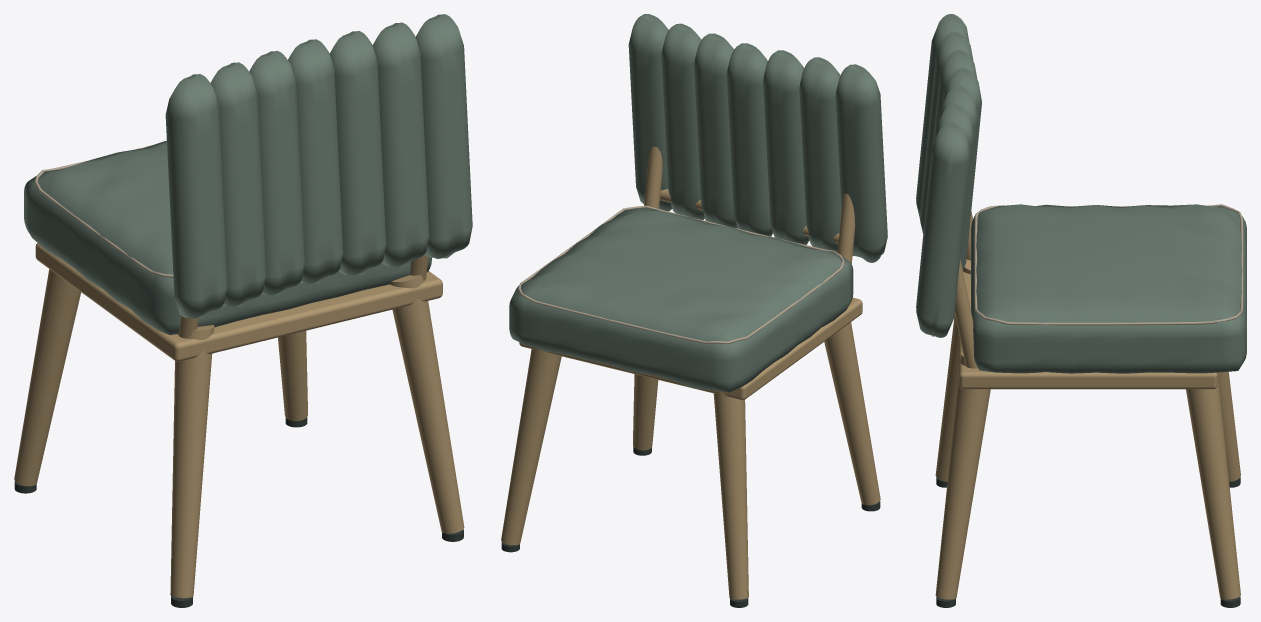
File: dining-channel-chair.glb
3 renders of one model, left to right at view 1: azimuth 30°, elevation 25°; view 2: azimuth 150°, elevation 25°; view 3: azimuth 270°, elevation 25°, orthographic. The views are drawn at different scales.
Parts seen in each view (by area): view 1: velvet_surfaces, bronze_surfaces, steel_surfaces, welt_surfaces; view 2: velvet_surfaces, bronze_surfaces, welt_surfaces, steel_surfaces; view 3: velvet_surfaces, bronze_surfaces, welt_surfaces, steel_surfaces.
Boxes of the visible parts, x1,y1,x2,y2 form: velvet_surfaces: [24, 14, 472, 335]; bronze_surfaces: [14, 243, 464, 598]; steel_surfaces: [14, 417, 463, 607]; welt_surfaces: [34, 145, 173, 277]; velvet_surfaces: [509, 14, 887, 392]; bronze_surfaces: [501, 146, 880, 599]; welt_surfaces: [518, 205, 844, 344]; steel_surfaces: [501, 447, 880, 607]; velvet_surfaces: [916, 14, 1246, 373]; bronze_surfaces: [935, 211, 1240, 599]; welt_surfaces: [974, 204, 1243, 325]; steel_surfaces: [936, 477, 1240, 607].
Bounding box in the file's own units: 0.522 × 0.8918 × 0.5633.
